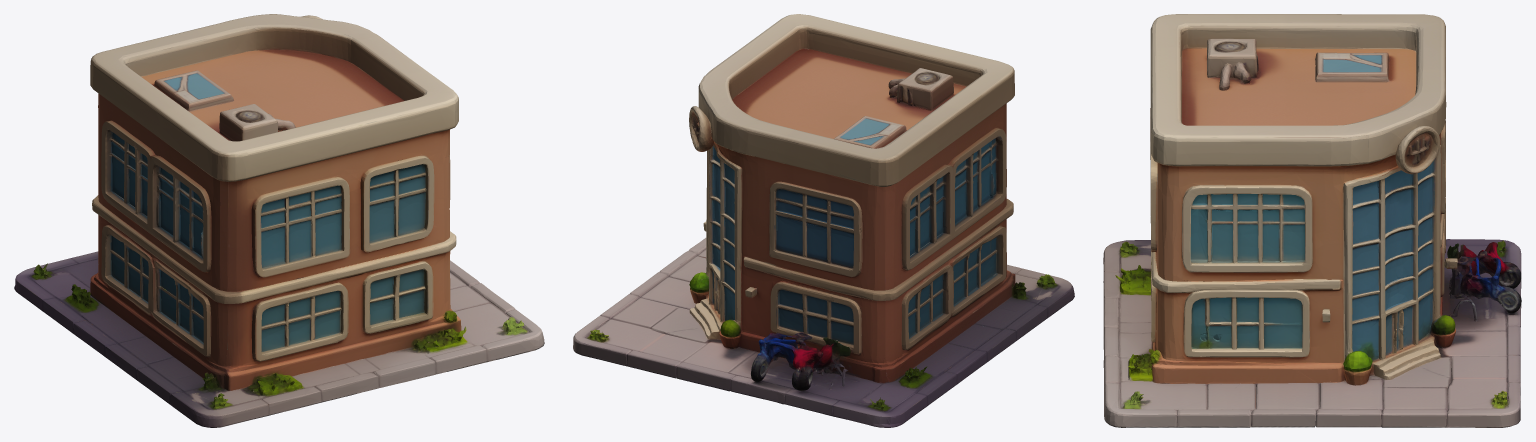
File: edificio_gimnasio.glb
3 renders of one model, left to right at view 1: azimuth 30°, elevation 25°; view 2: azimuth 150°, elevation 25°; view 3: azimuth 270°, elevation 25°, orthographic. The views are drawn at different scales.
Visible parts, largest first — view 1: world; view 2: world; view 3: world.
Boxes of the visible parts, bbox=[...] form: world: bbox=[14, 14, 544, 427]; world: bbox=[573, 14, 1074, 427]; world: bbox=[1103, 14, 1521, 427].
Bounding box in the file's own units: 0.999 × 0.6829 × 0.997.
Materials: 1 (1 with a texture image).
